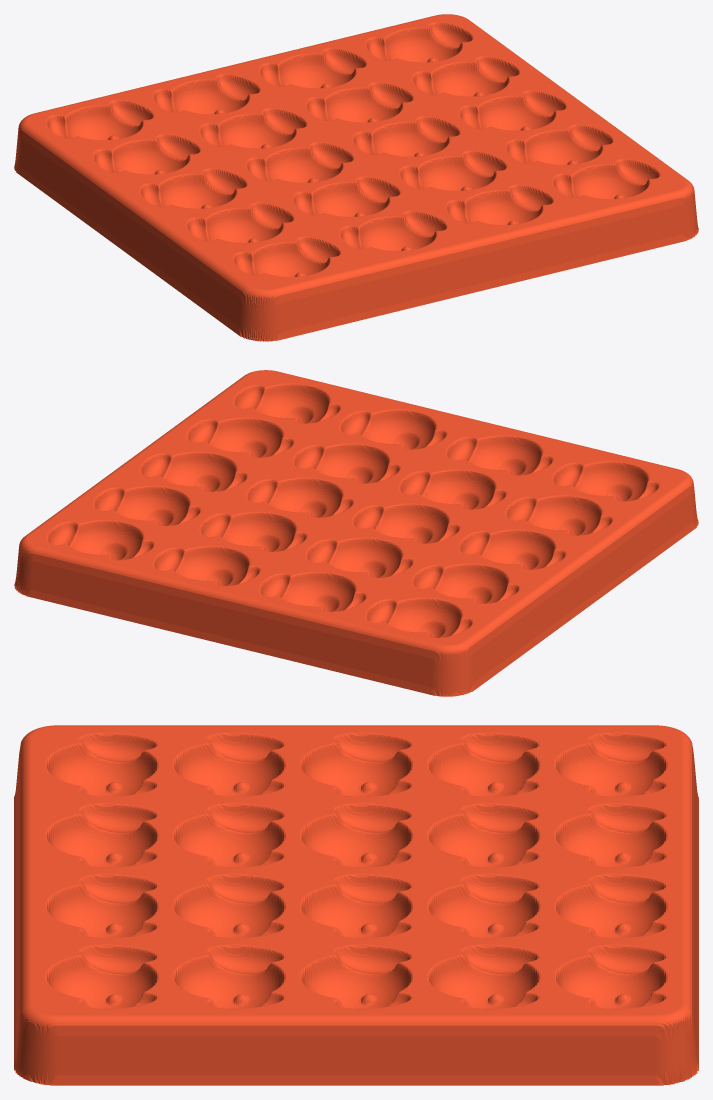
File: mold.glb
3 views of the same model, one above another, from view 1: azimuth 30°, elevation 25°; view 2: azimuth 150°, elevation 25°; view 3: azimuth 270°, elevation 25° (orthographic). The views are drawn at different scales.
Visible parts, largest first — view 1: geometry_0; view 2: geometry_0; view 3: geometry_0.
Boxes of the visible parts, x1,y1,x2,y2 form: geometry_0: [14, 14, 698, 341]; geometry_0: [14, 370, 698, 696]; geometry_0: [14, 725, 698, 1085].
Size of the model in its own units: 0.1492 by 0.0145 by 0.1423.
